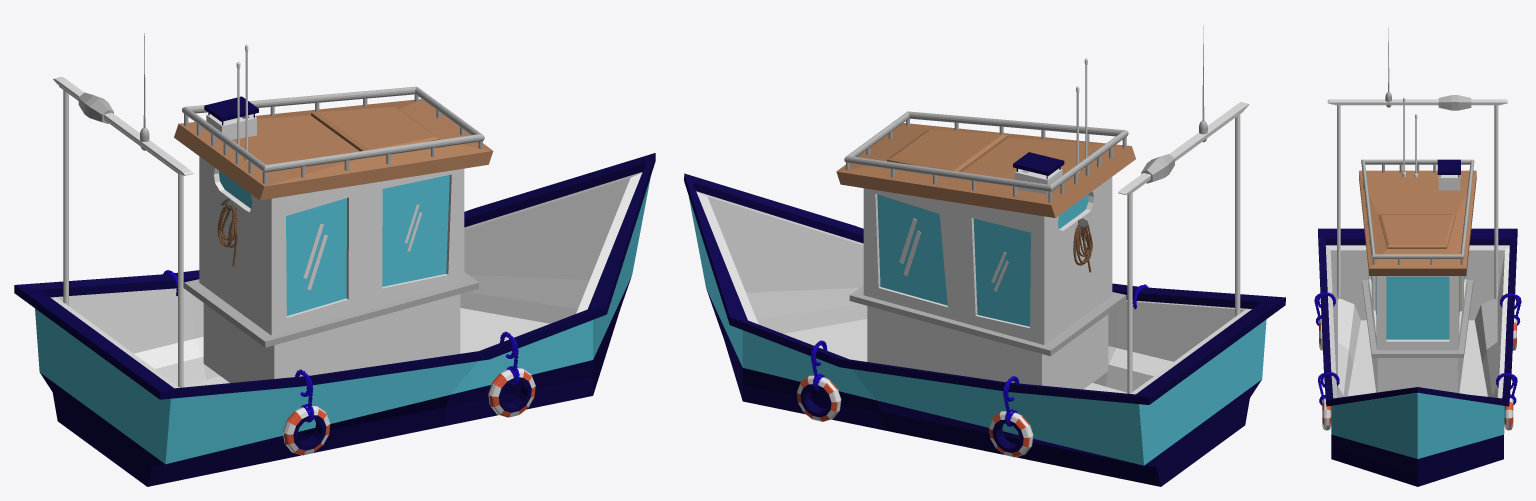
Rendered from boat.fbx.
3 renders of one model, left to right at view 1: azimuth 30°, elevation 25°; view 2: azimuth 150°, elevation 25°; view 3: azimuth 270°, elevation 25°, orthographic. The views are drawn at different scales.
Parts seen in each view (by area): view 1: Plane.001; view 2: Plane.001; view 3: Plane.001.
Part boxes in pixels (left/top/right/bottom): Plane.001: left=14, top=33, right=655, bottom=486; Plane.001: left=684, top=25, right=1285, bottom=486; Plane.001: left=1314, top=27, right=1521, bottom=486.
Size of the model in its own units: 710 by 538 by 327.
